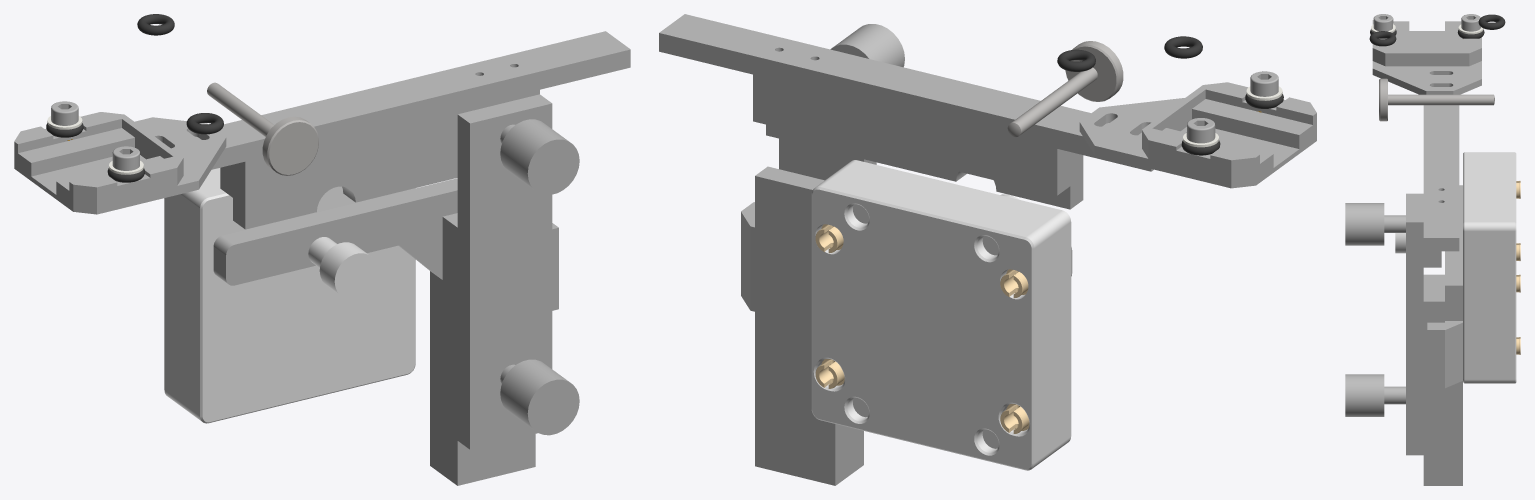
Rendered from ASS_-_3003_-_PUZMANXYSDIA.glb.
3 views of the same model, side by side, from view 1: azimuth 30°, elevation 25°; view 2: azimuth 150°, elevation 25°; view 3: azimuth 270°, elevation 25° (orthographic). The views are drawn at different scales.
Parts seen in each view (by area): view 1: BUY - XY stage - XXX --- X stage:1, PRT - 3006 - MANXYSMNT:1, BUY - XY stage - XXX --- Base:1, BUY - XY stage - XXX --- Y stage:1, PRT - 3007 - DIAPLAHOL:1, DIN 653 - Knurled screw - M3x20 - CS electrogalvanised:1, ISO 3601-1 - O-Ring - 3.5 x 2.0 - NBR70:4, ISO 3601-1 - O-Ring - 3.5 x 2.0 - NBR70:3; view 2: PRT - 3006 - MANXYSMNT:1, BUY - XY stage - XXX --- X stage:1, BUY - XY stage - XXX --- Base:1, BUY - XY stage - XXX --- Y stage:1, PRT - 3007 - DIAPLAHOL:1, DIN 653 - Knurled screw - M3x20 - CS electrogalvanised:1, ISO 3601-1 - O-Ring - 3.5 x 2.0 - NBR70:4, ISO 3601-1 - O-Ring - 3.5 x 2.0 - NBR70:3; view 3: PRT - 3006 - MANXYSMNT:1, BUY - XY stage - XXX --- Base:1, BUY - XY stage - XXX --- X stage:1, PRT - 3007 - DIAPLAHOL:1, BUY - XY stage - XXX --- Y stage:1, DIN 653 - Knurled screw - M3x20 - CS electrogalvanised:1, ISO 3601-1 - O-Ring - 3.5 x 2.0 - NBR70:4, ISO 3601-1 - O-Ring - 3.5 x 2.0 - NBR70:3, ISO 4762 - Hex socket head cap screw - M3 x 8 - 8.8 - A2K:1, ISO 4762 - Hex socket head cap screw - M3 x 8 - 8.8 - A2K:2.
Boxes of the visible parts, bbox=[...] form: BUY - XY stage - XXX --- X stage:1: bbox=[220, 90, 579, 449]; PRT - 3006 - MANXYSMNT:1: bbox=[164, 168, 415, 423]; BUY - XY stage - XXX --- Base:1: bbox=[213, 178, 558, 485]; BUY - XY stage - XXX --- Y stage:1: bbox=[195, 31, 630, 169]; PRT - 3007 - DIAPLAHOL:1: bbox=[14, 112, 226, 214]; DIN 653 - Knurled screw - M3x20 - CS electrogalvanised:1: bbox=[207, 82, 318, 175]; ISO 3601-1 - O-Ring - 3.5 x 2.0 - NBR70:4: bbox=[137, 14, 174, 35]; ISO 3601-1 - O-Ring - 3.5 x 2.0 - NBR70:3: bbox=[186, 113, 223, 134]; PRT - 3006 - MANXYSMNT:1: bbox=[811, 160, 1071, 470]; BUY - XY stage - XXX --- X stage:1: bbox=[753, 24, 1083, 209]; BUY - XY stage - XXX --- Base:1: bbox=[741, 166, 1072, 485]; BUY - XY stage - XXX --- Y stage:1: bbox=[659, 14, 1153, 171]; PRT - 3007 - DIAPLAHOL:1: bbox=[1079, 82, 1316, 188]; DIN 653 - Knurled screw - M3x20 - CS electrogalvanised:1: bbox=[1007, 41, 1123, 136]; ISO 3601-1 - O-Ring - 3.5 x 2.0 - NBR70:4: bbox=[1057, 49, 1095, 71]; ISO 3601-1 - O-Ring - 3.5 x 2.0 - NBR70:3: bbox=[1164, 36, 1202, 58]; PRT - 3006 - MANXYSMNT:1: bbox=[1463, 152, 1516, 383]; BUY - XY stage - XXX --- Base:1: bbox=[1395, 185, 1462, 485]; BUY - XY stage - XXX --- X stage:1: bbox=[1345, 193, 1458, 455]; PRT - 3007 - DIAPLAHOL:1: bbox=[1372, 15, 1481, 94]; BUY - XY stage - XXX --- Y stage:1: bbox=[1423, 105, 1459, 250]; DIN 653 - Knurled screw - M3x20 - CS electrogalvanised:1: bbox=[1379, 78, 1494, 121]; ISO 3601-1 - O-Ring - 3.5 x 2.0 - NBR70:4: bbox=[1478, 14, 1505, 29]; ISO 3601-1 - O-Ring - 3.5 x 2.0 - NBR70:3: bbox=[1369, 31, 1396, 46]; ISO 4762 - Hex socket head cap screw - M3 x 8 - 8.8 - A2K:1: bbox=[1373, 14, 1393, 31]; ISO 4762 - Hex socket head cap screw - M3 x 8 - 8.8 - A2K:2: bbox=[1461, 14, 1480, 31].
Size of the model in its own units: 135 by 109 by 49.2.
